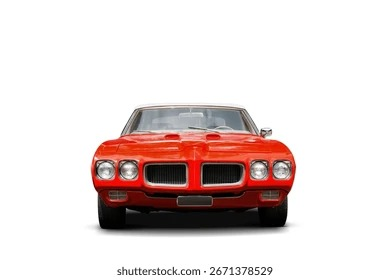car: (91, 104, 296, 230)
